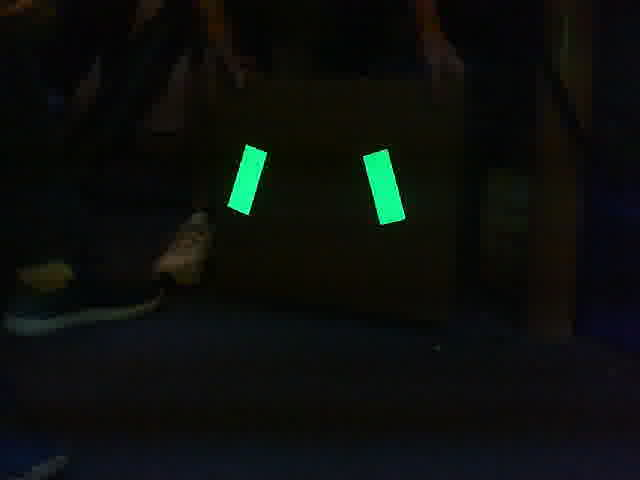target: (225, 143, 407, 228)
